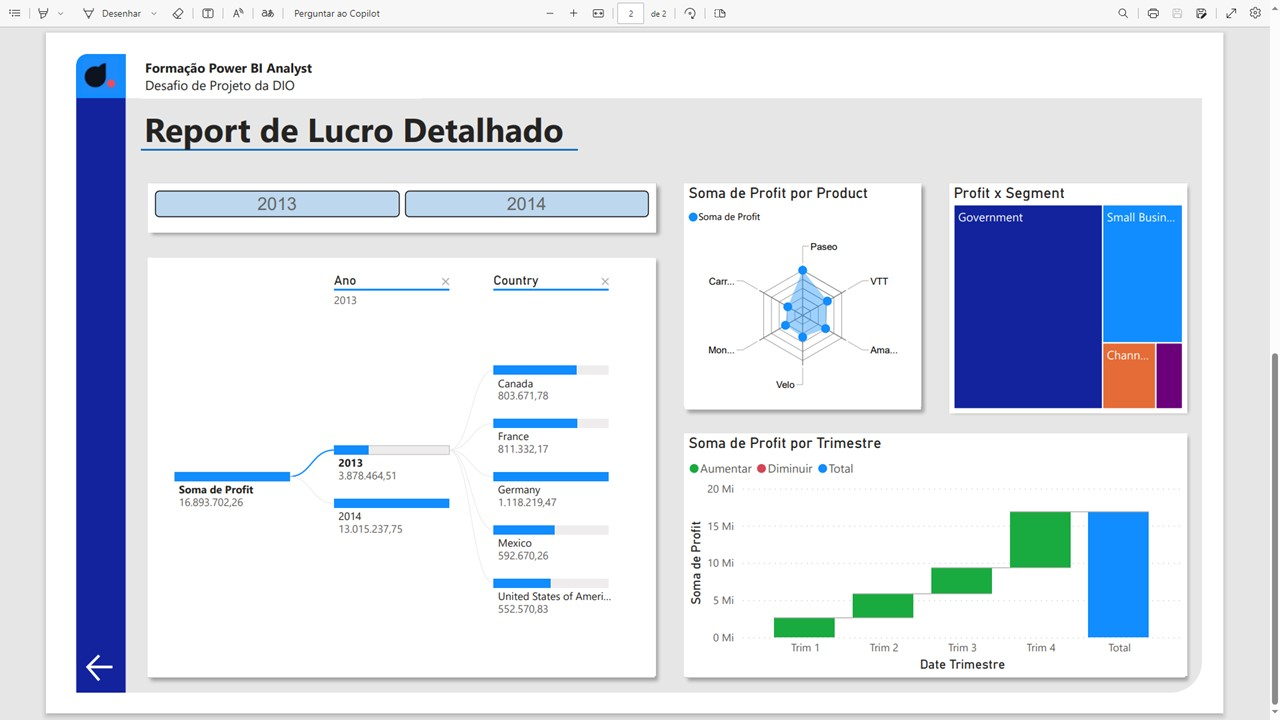

The page's visual inventory and layout, read from the dashboard file:
{"tool":"powerbi","page":{"name":"Página 2","canvas":[1280,720],"ordinal":1},"visuals":[{"type":"group","id":"g1","title":"ParteFundo","box":[9.7,0,1270.3,719.8],"z":0},{"type":"shape","box":[9.7,0,1270.3,719.8],"z":0,"group":"g1"},{"type":"shape","title":"UnderTitulo","box":[83.1,101.5,493,12],"z":0,"group":"g2"},{"type":"shape","box":[9.9,0,56.1,719.7],"z":1000,"group":"g1"},{"type":"group","id":"g2","title":"Título","box":[82.1,0,494,113.5],"z":1000},{"type":"textbox","title":"Título","box":[82.1,54.3,493.1,58.7],"z":1000,"group":"g2"},{"type":"shape","box":[9.9,0,56.1,49.8],"z":2000,"group":"g1"},{"type":"textbox","title":"Subtítulo","box":[82.7,0,317.1,49.6],"z":2000,"group":"g2"},{"type":"shape","box":[83,137,590,72],"z":2000},{"type":"shape","box":[66.1,0,1213.9,49.6],"z":3000,"group":"g1"},{"type":"shape","box":[82,221,590,491],"z":3000},{"type":"image","title":"LogoDio","box":[9.9,0,56.1,49.8],"z":4000,"group":"g1"},{"type":"shape","box":[688,419,582,293],"z":4000},{"type":"actionButton","box":[17.2,671.7,40.7,39.8],"z":4500,"group":"g1"},{"type":"shape","box":[986,137,284,273],"z":5000},{"type":"shape","box":[688,137,284,273],"z":6000},{"type":"treemap","title":"Profit x Segment","fields":{"Values":["Sum(financials.Profit)"],"Group":["financials.Segment"]},"box":[995,146,268,259],"z":7000},{"type":"waterfallChart","fields":{"Y":["Sum(financials.Profit)"],"Category":["financials.Date.Variation.Hierarquia de datas.Trimestre"]},"box":[695.5,428,567.3,272.6],"z":7001},{"type":"decompositionTreeVisual","fields":{"Analyze":["Sum(financials.Profit)"],"ExplainBy":["financials.Date.Variation.Hierarquia de datas.Ano","financials.Country"]},"box":[90.9,230.2,573.4,470.4],"z":7002},{"type":"ChicletSlicer1448559807354","fields":{"Category":["financials.Date.Variation.Hierarquia de datas.Ano"]},"box":[90.9,146.4,573.4,54.5],"z":7003},{"type":"RadarChart1446119667547","fields":{"Y":["Sum(financials.Profit)"],"Category":["financials.Product"]},"box":[695.5,146.4,267.5,250.3],"z":7004}]}

Visuals, with their boxes on the page's 1280x720 design canvas (x1, y1, x2, y2). These are canvas units, not pixel positions in the 1280x720 screenshot, which may show the page scaled, cropped or inside an application window:
"ParteFundo" group: x1=10, y1=0, x2=1280, y2=720
shape: x1=10, y1=0, x2=1280, y2=720
"UnderTitulo" shape: x1=83, y1=102, x2=576, y2=114
shape: x1=10, y1=0, x2=66, y2=720
"Título" group: x1=82, y1=0, x2=576, y2=114
"Título" textbox: x1=82, y1=54, x2=575, y2=113
shape: x1=10, y1=0, x2=66, y2=50
"Subtítulo" textbox: x1=83, y1=0, x2=400, y2=50
shape: x1=83, y1=137, x2=673, y2=209
shape: x1=66, y1=0, x2=1280, y2=50
shape: x1=82, y1=221, x2=672, y2=712
"LogoDio" image: x1=10, y1=0, x2=66, y2=50
shape: x1=688, y1=419, x2=1270, y2=712
actionButton: x1=17, y1=672, x2=58, y2=712
shape: x1=986, y1=137, x2=1270, y2=410
shape: x1=688, y1=137, x2=972, y2=410
"Profit x Segment" treemap: x1=995, y1=146, x2=1263, y2=405
waterfallChart - Sum(financials.Profit) x financials.Date.Variation.Hierarquia de datas.Trimestre: x1=696, y1=428, x2=1263, y2=701
decompositionTreeVisual - Sum(financials.Profit) x financials.Date.Variation.Hierarquia de datas.Ano: x1=91, y1=230, x2=664, y2=701
ChicletSlicer1448559807354 - financials.Date.Variation.Hierarquia de datas.Ano: x1=91, y1=146, x2=664, y2=201
RadarChart1446119667547 - Sum(financials.Profit) x financials.Product: x1=696, y1=146, x2=963, y2=397
